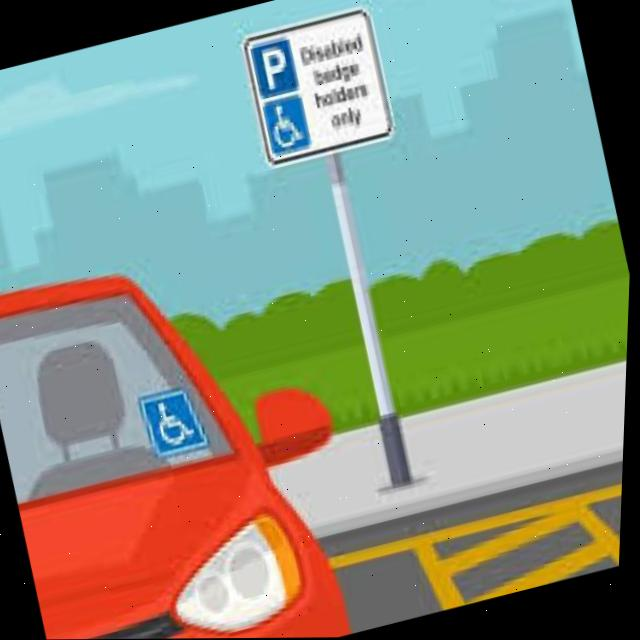symbol_of_access: (145, 389, 209, 460), (263, 93, 313, 155)
